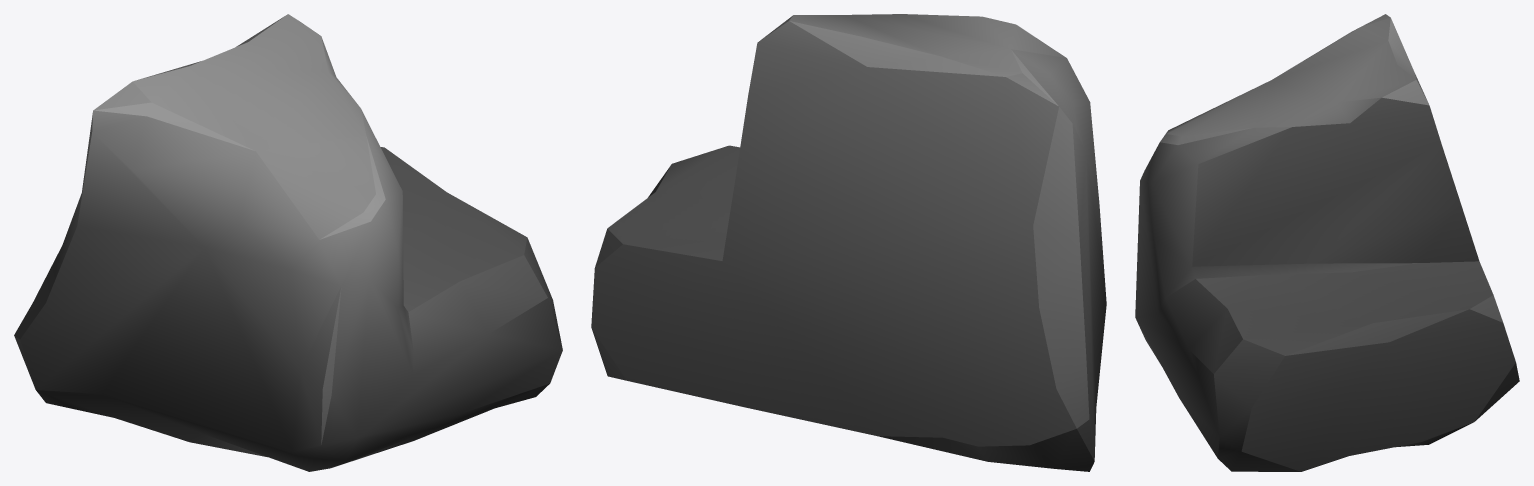
Rendered from rocks_001.glb.
The picture shows the model from 3 angles, left to right: view 1: azimuth 30°, elevation 25°; view 2: azimuth 150°, elevation 25°; view 3: azimuth 270°, elevation 25°; orthographic projection. The views are drawn at different scales.
Parts seen in each view (by area): view 1: rocks.001; view 2: rocks.001; view 3: rocks.001.
Boxes of the visible parts, x1,y1,x2,y2 form: rocks.001: (14, 14, 562, 471); rocks.001: (591, 14, 1106, 471); rocks.001: (1135, 14, 1519, 471).
Size of the model in its own units: 0.9507 by 0.717 by 0.771.
Materials: 1 (1 with a texture image).
